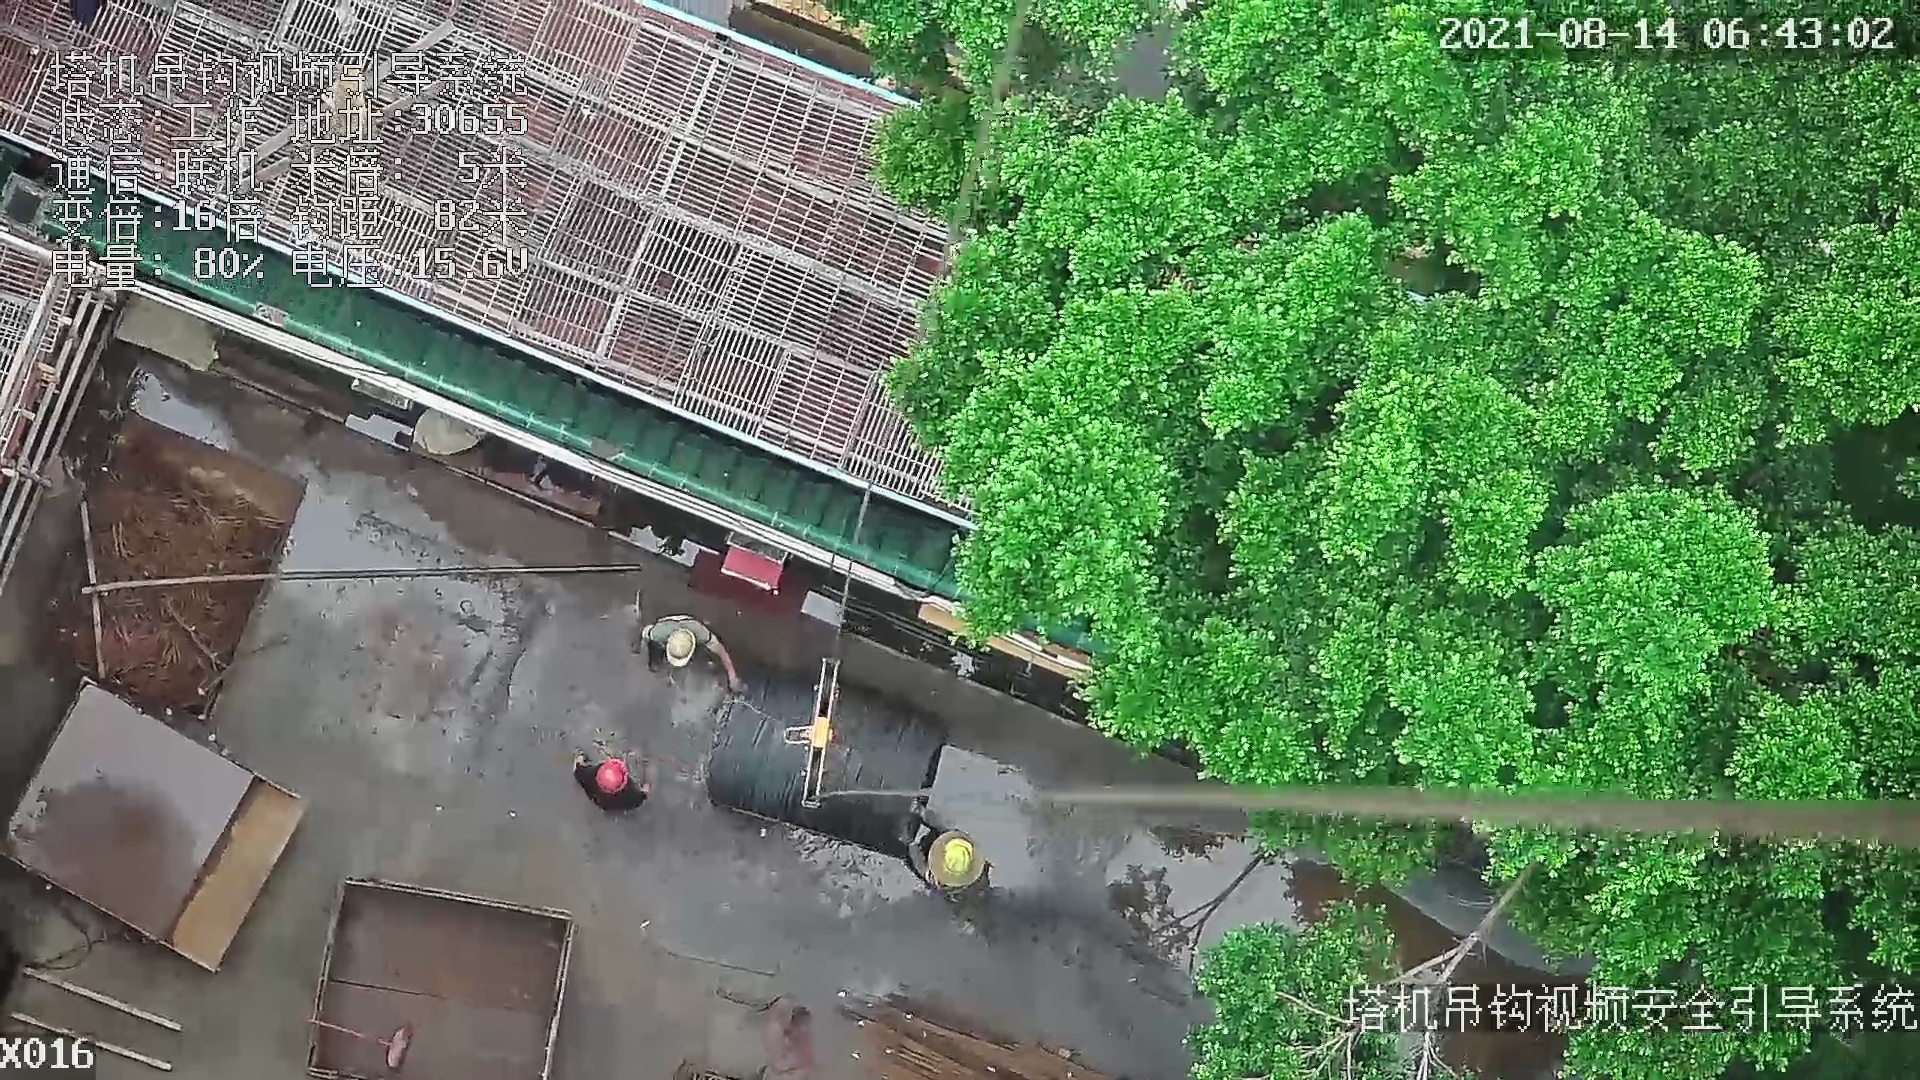helmet: (589, 758, 643, 797), (941, 837, 982, 880), (666, 627, 695, 668)
person: (859, 814, 1000, 894), (646, 614, 741, 699), (563, 745, 654, 813)
